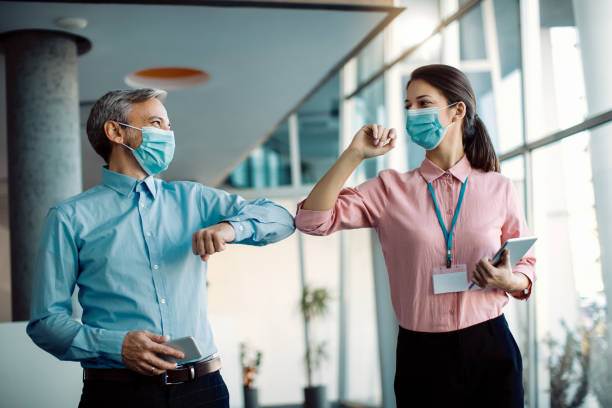with mask: (95, 93, 181, 173), (392, 67, 478, 147)
